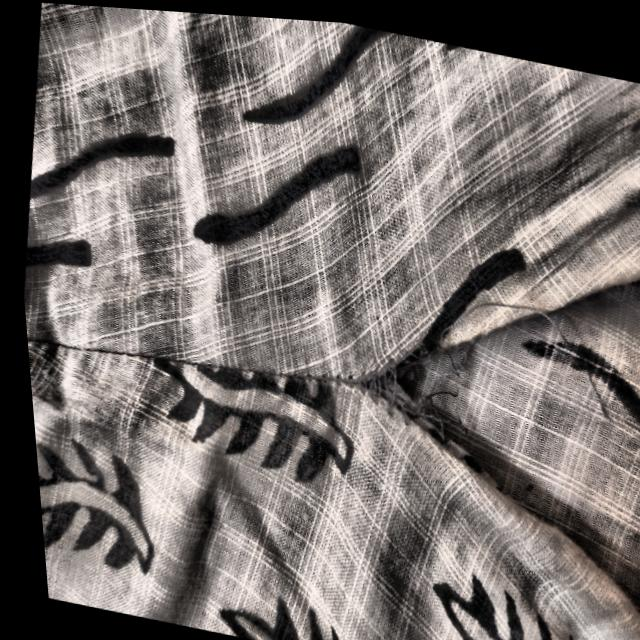Stitch: (291, 231, 637, 496)
